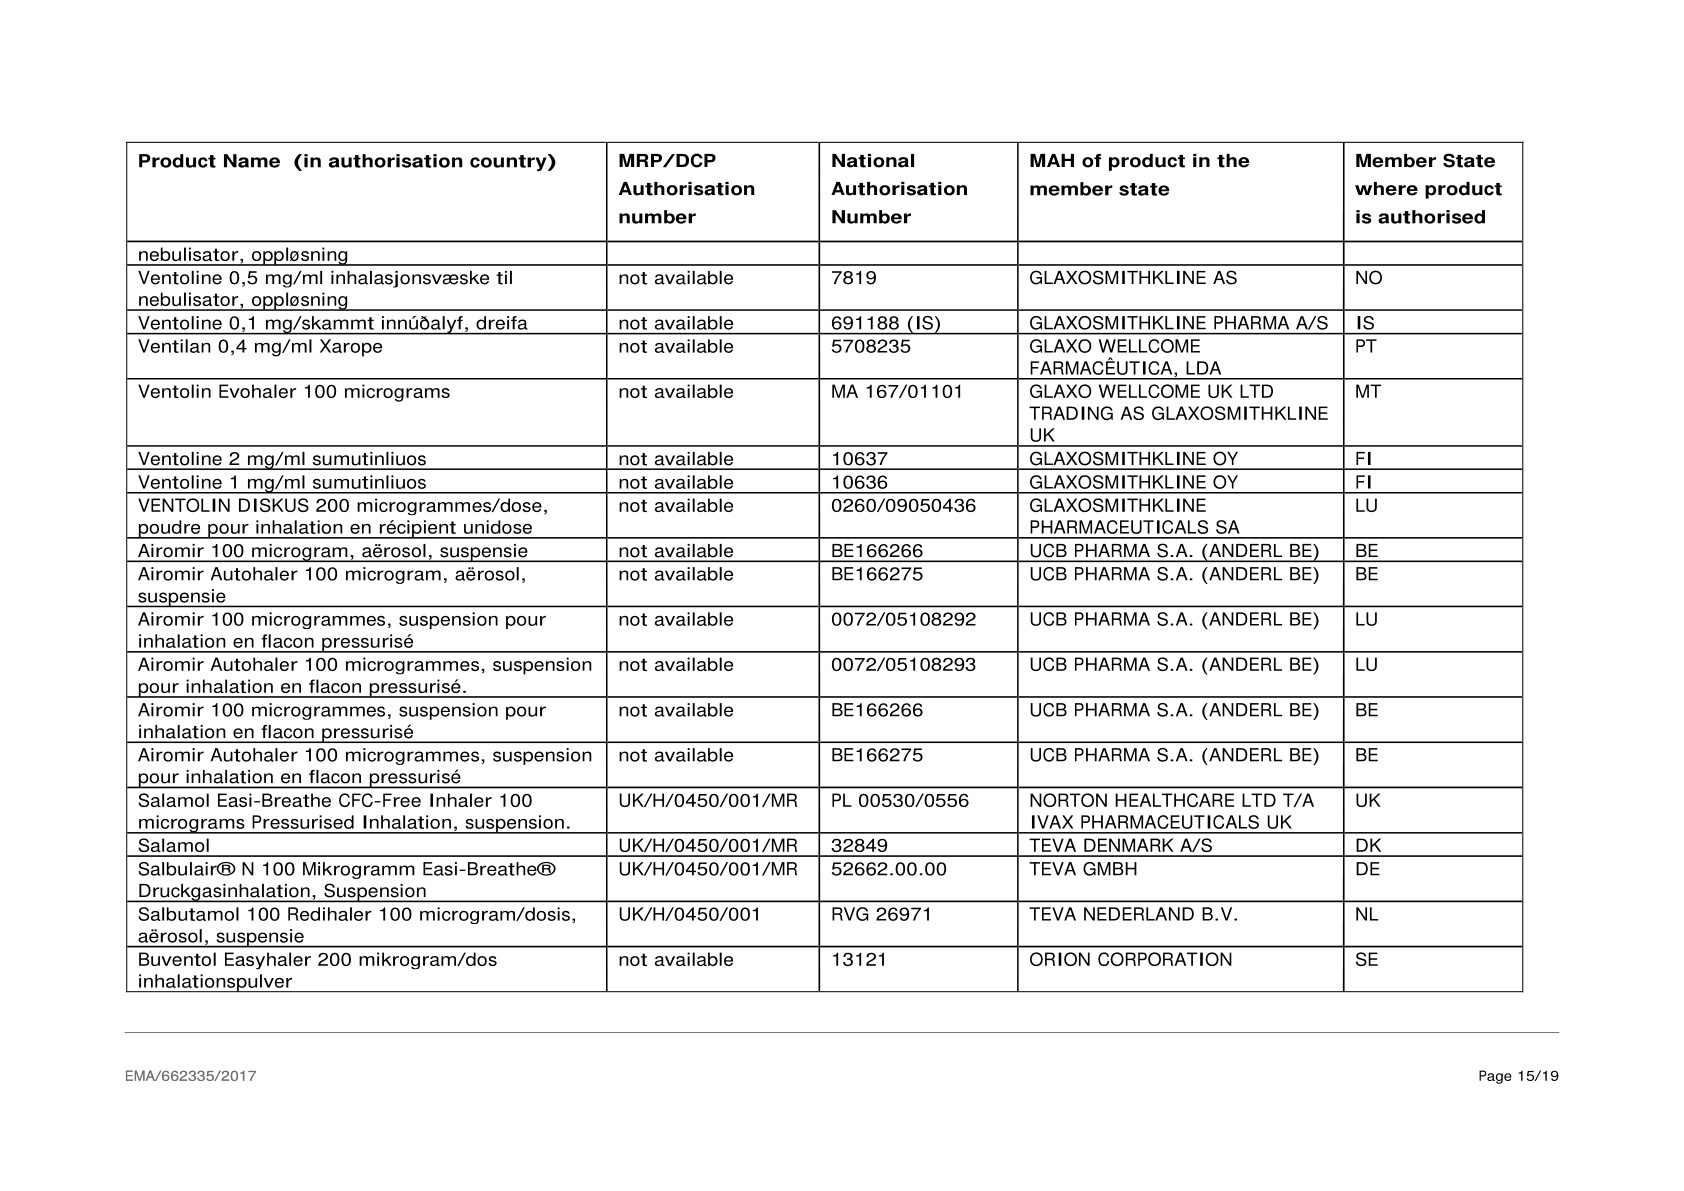full_lined: (119, 137, 1528, 999)
